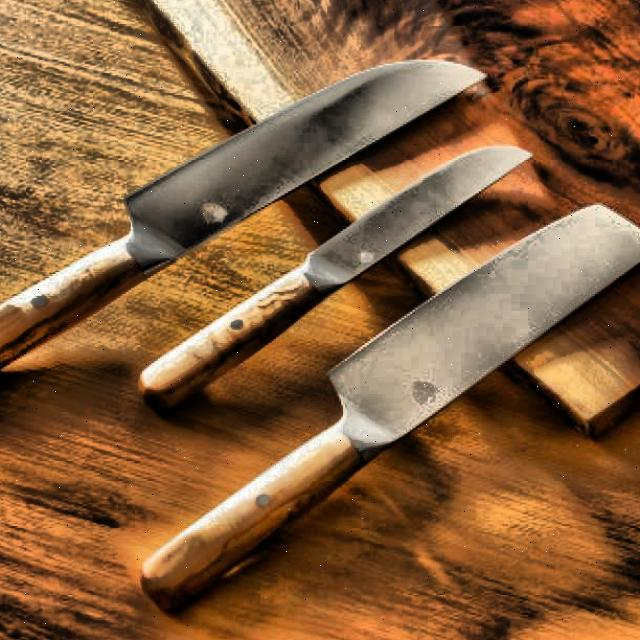knife: (141, 201, 640, 601), (0, 54, 490, 371), (140, 140, 532, 414)
